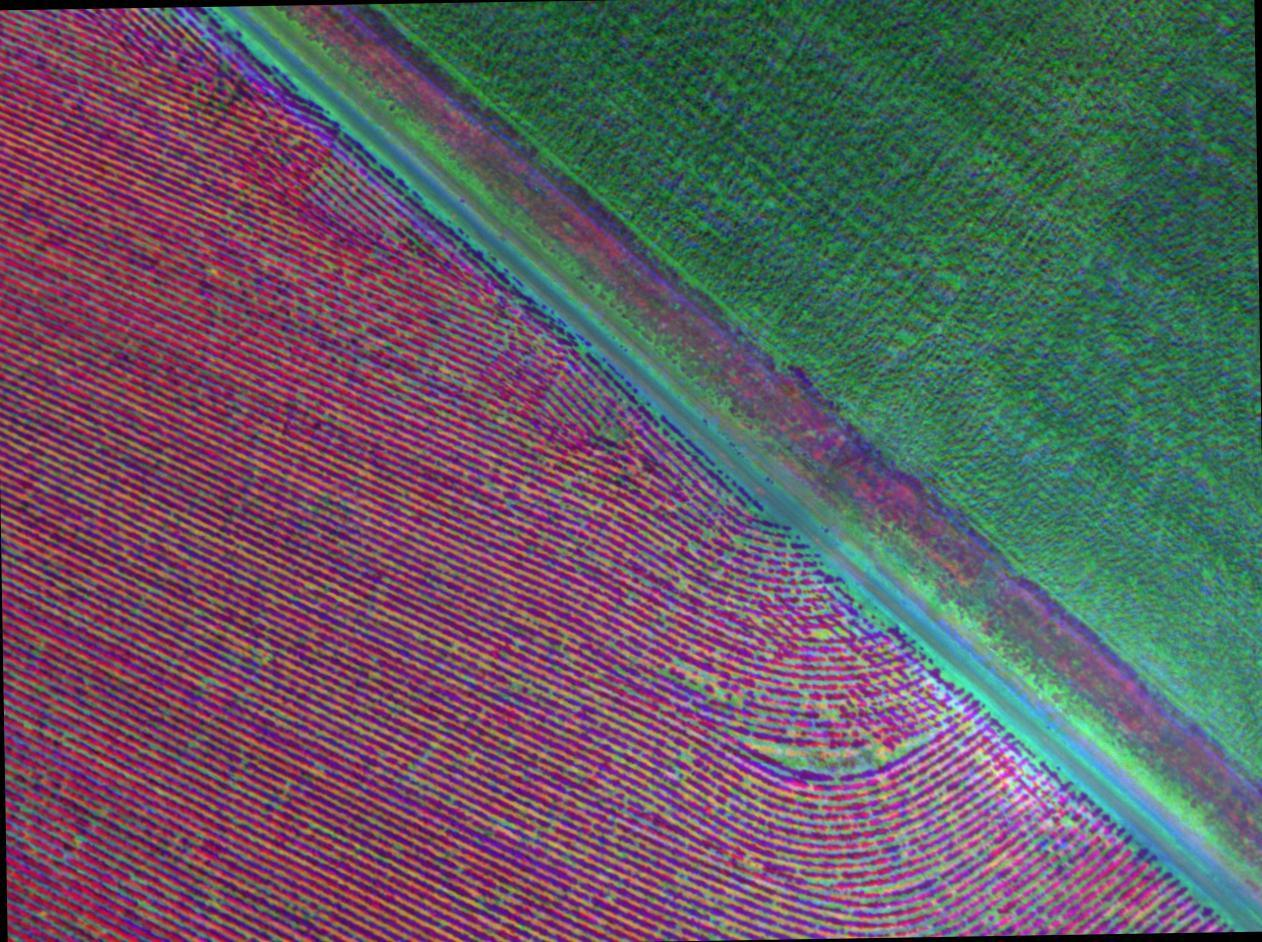dc: (736, 725, 955, 775), (673, 510, 768, 607), (783, 575, 868, 650), (831, 855, 987, 891), (671, 648, 752, 711)
